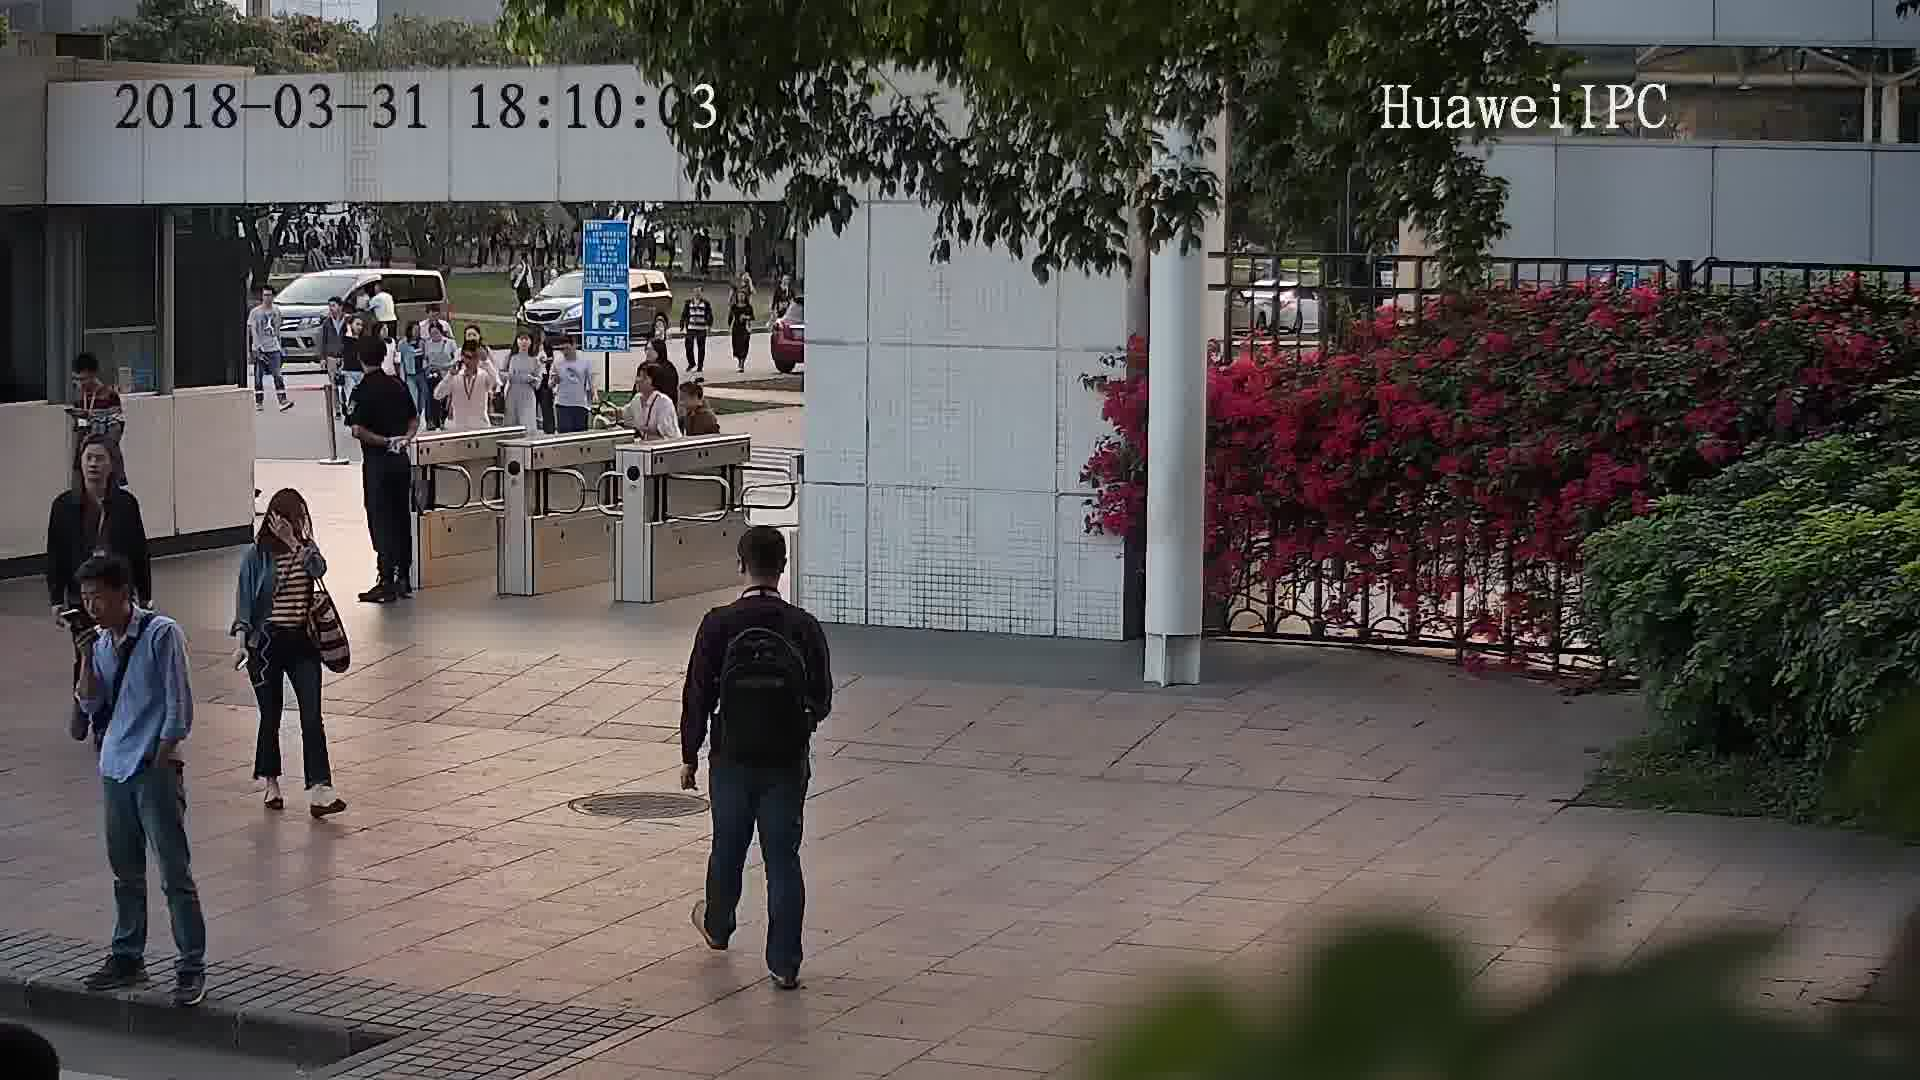face: (74, 572, 130, 628), (77, 438, 115, 483)
person: (701, 519, 821, 634), (76, 555, 187, 671), (53, 434, 140, 515), (241, 488, 324, 565), (351, 336, 406, 397), (72, 350, 121, 413), (626, 362, 676, 413), (446, 336, 494, 385), (677, 377, 719, 425), (505, 322, 548, 367), (551, 323, 590, 371), (413, 298, 455, 340), (246, 282, 286, 326), (425, 319, 464, 355), (647, 337, 679, 375), (317, 295, 347, 333), (400, 315, 429, 354), (363, 273, 397, 303), (344, 314, 372, 344), (649, 305, 673, 336), (686, 283, 712, 308)
